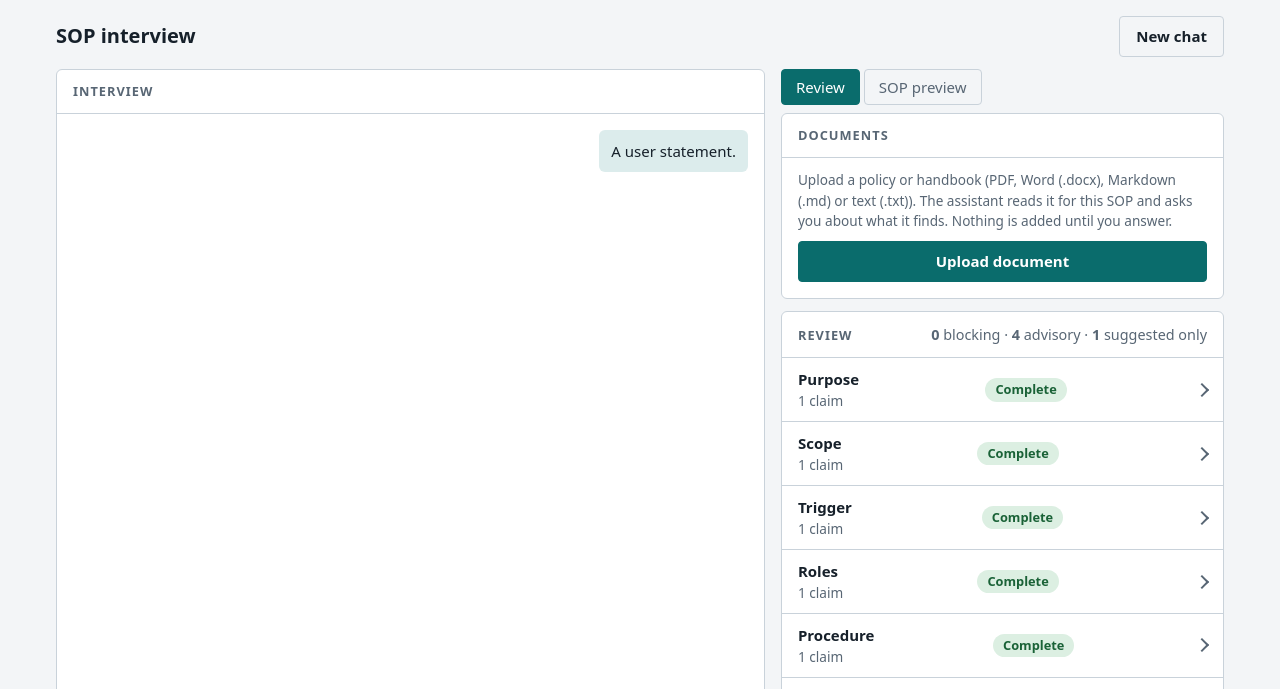
it: the SOP preview's source line › shows a suggestion's own note once, not after the generic label
What coordinates should you click on to do the following:
click the tab "SOP preview"
I would click on:
 (923, 87)
Its box is top-left (864, 68), bottom-right (982, 105).
(page scrolled)
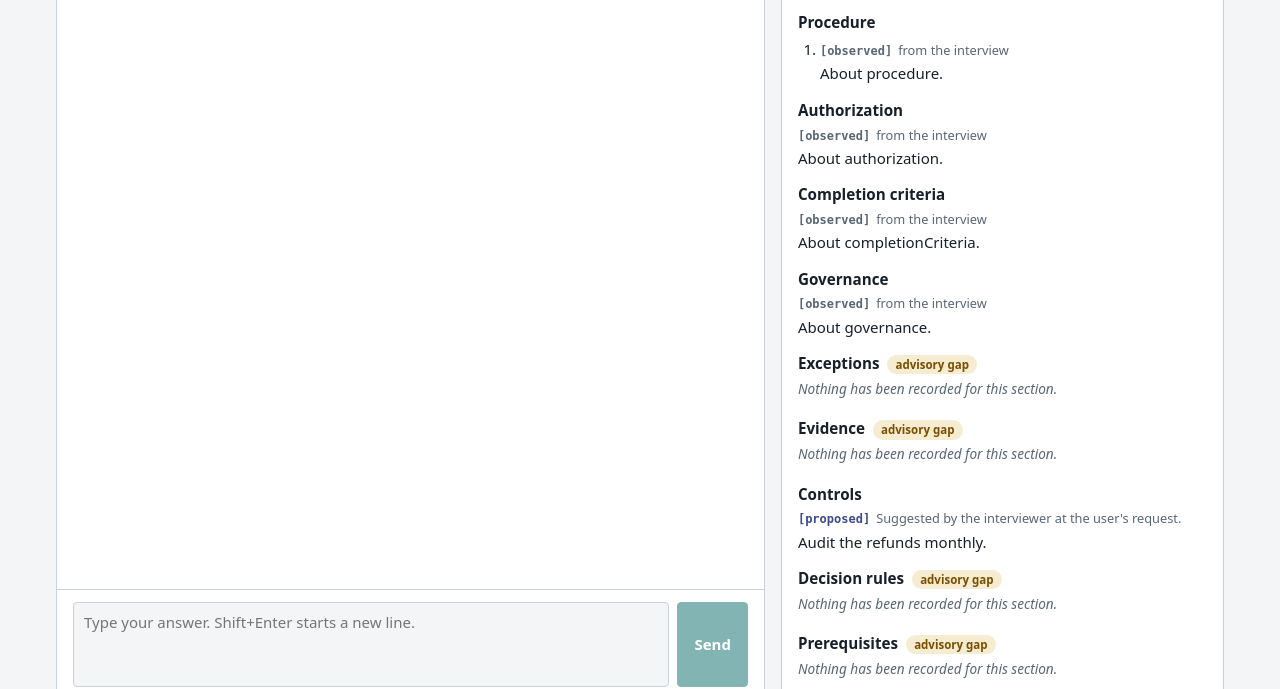
Expected: the text "Suggested by the interviewer at the user's request." is shown, top-left (876, 509), bottom-right (1181, 528)
